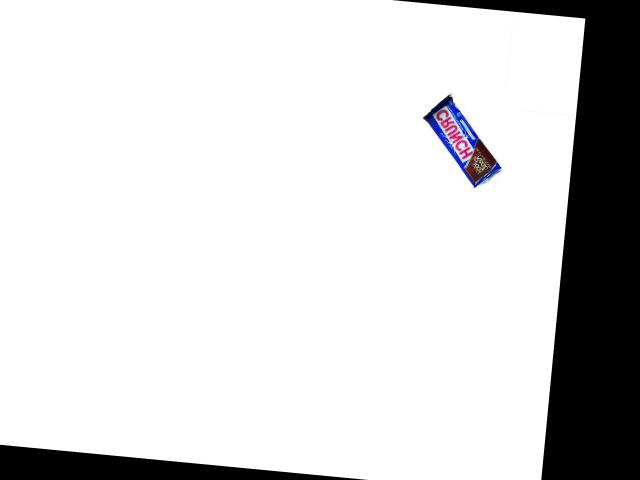chocolate: (415, 90, 509, 192)
